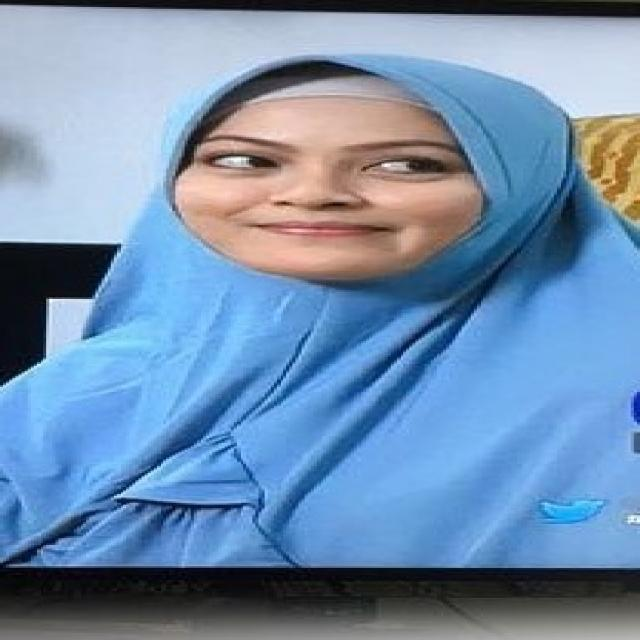head: (172, 44, 545, 279)
